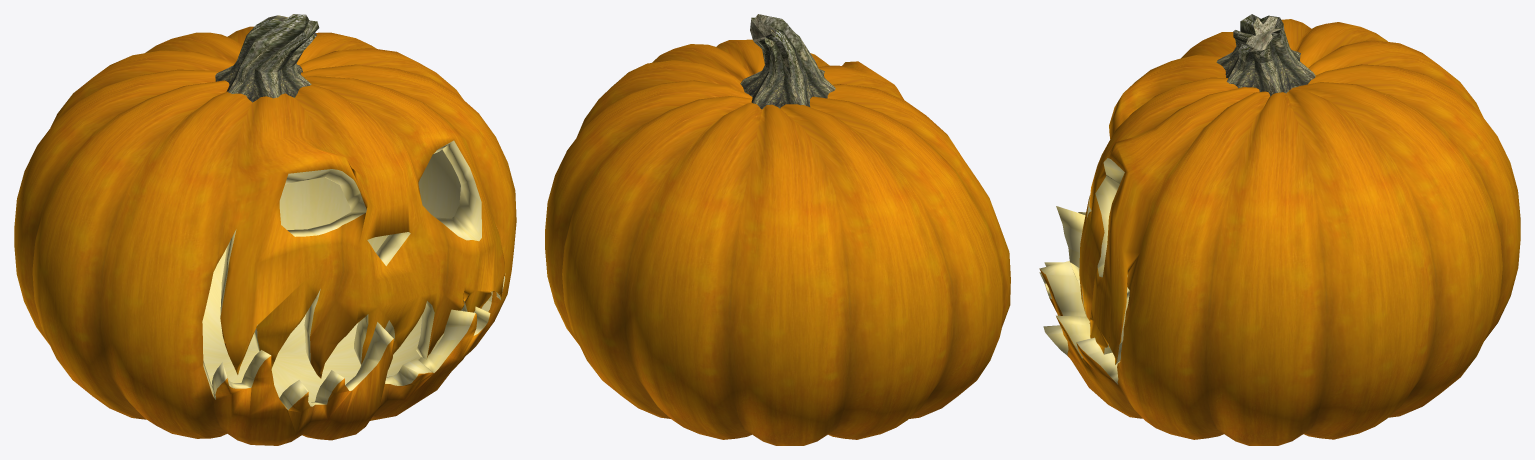
The model's file is pumpkin_morph2.obj.
The picture shows the model from 3 angles, left to right: view 1: azimuth 30°, elevation 25°; view 2: azimuth 150°, elevation 25°; view 3: azimuth 270°, elevation 25°; orthographic projection. The views are drawn at different scales.
Parts seen in each view (by area): view 1: Pumpkin_Mesh4_PumpkinA1_Model; view 2: Pumpkin_Mesh4_PumpkinA1_Model; view 3: Pumpkin_Mesh4_PumpkinA1_Model.
Part boxes in pixels (x1,y1,x2,y2): Pumpkin_Mesh4_PumpkinA1_Model: (14,14,516,445); Pumpkin_Mesh4_PumpkinA1_Model: (545,14,1010,445); Pumpkin_Mesh4_PumpkinA1_Model: (1039,14,1520,445).
Size of the model in its own units: 0.4961 by 0.4158 by 0.4667.
